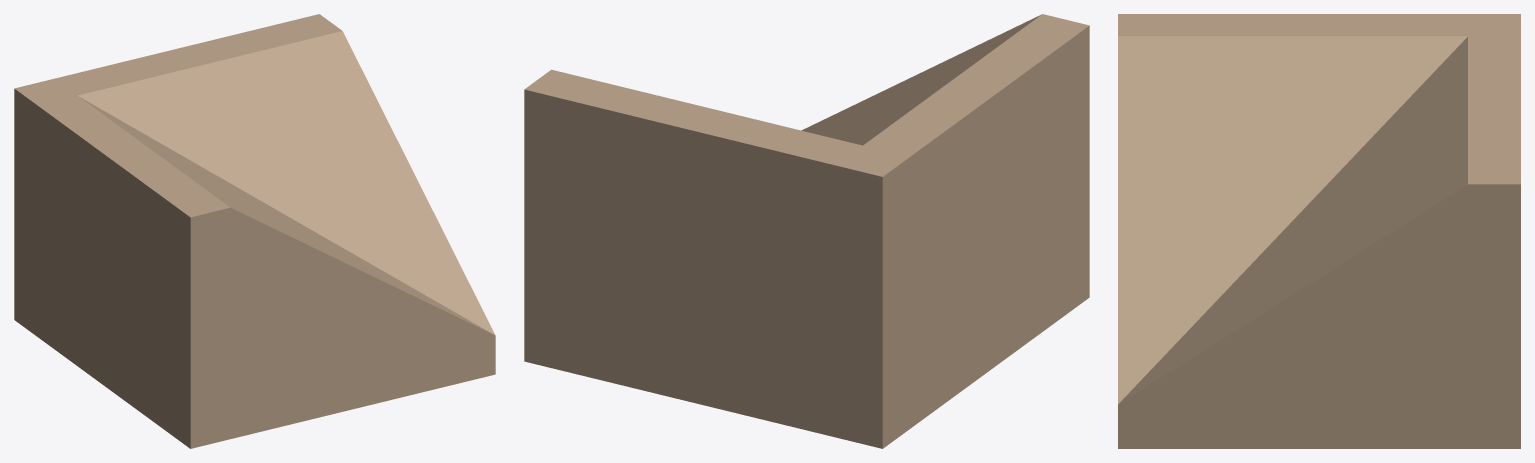
File: roof-slanted-corner-inner.obj
3 renders of one model, left to right at view 1: azimuth 30°, elevation 25°; view 2: azimuth 150°, elevation 25°; view 3: azimuth 270°, elevation 25°, orthographic. The views are drawn at different scales.
Bounding box in the file's own units: 1 × 0.725 × 1.
